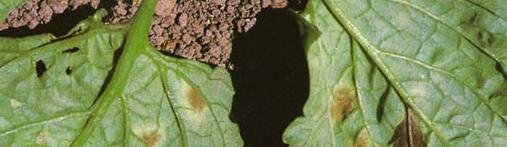Tomato mold leaf: (279, 0, 507, 147), (0, 28, 242, 147)
